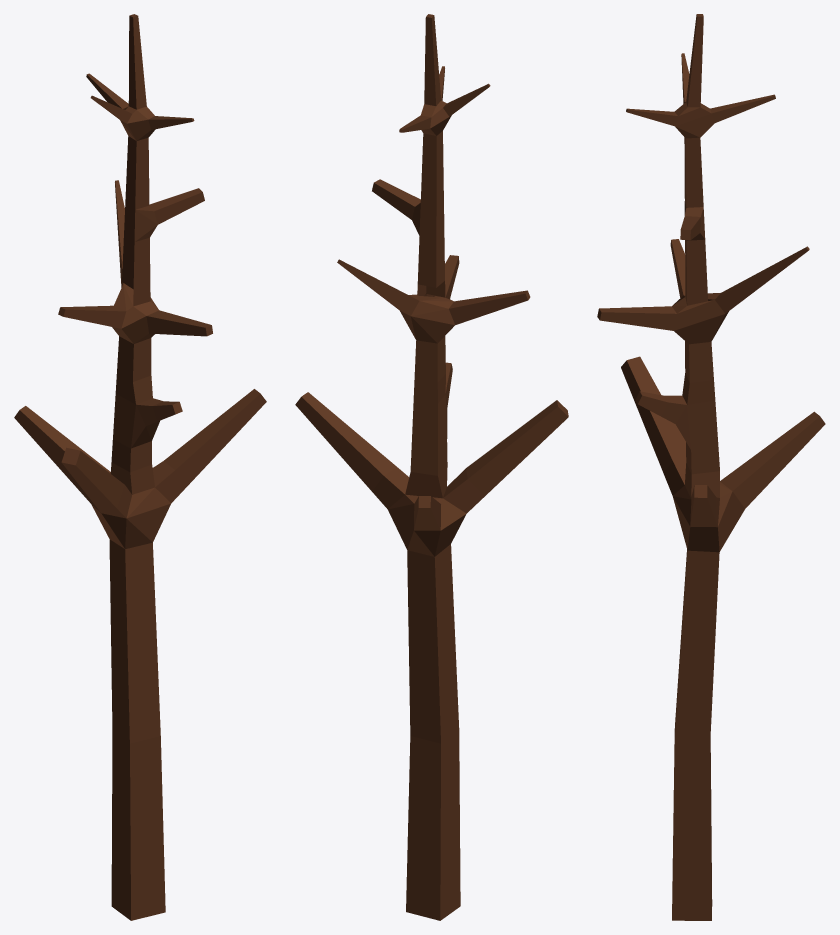
File: unity-gl-models.fbx
3 renders of one model, left to right at view 1: azimuth 30°, elevation 25°; view 2: azimuth 150°, elevation 25°; view 3: azimuth 270°, elevation 25°, orthographic.
Visible parts, largest first — view 1: Cube.054; view 2: Cube.054; view 3: Cube.054.
Part boxes in pixels (x1,y1,x2,y2): Cube.054: [14, 14, 266, 920]; Cube.054: [295, 14, 568, 920]; Cube.054: [597, 14, 825, 920].
Bounding box in the file's own units: 104 × 376 × 86.88.
